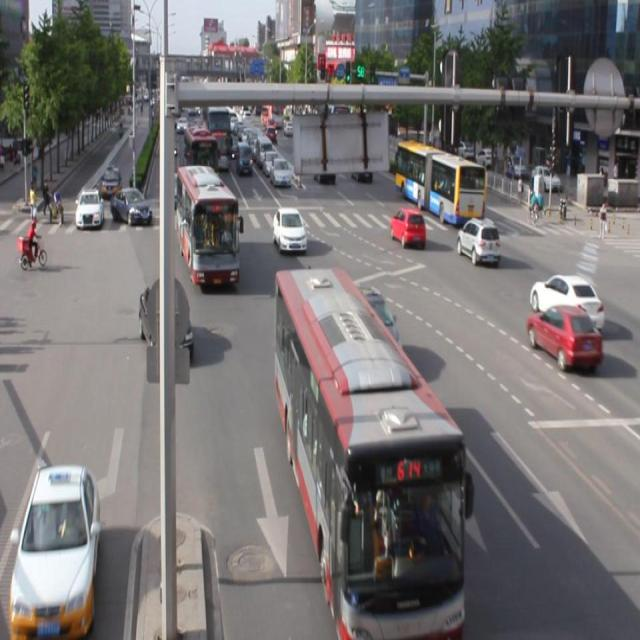car: (10, 462, 101, 640), (525, 301, 602, 371), (528, 271, 603, 330), (140, 284, 193, 358), (456, 216, 499, 263), (272, 205, 308, 252), (390, 206, 425, 247)
van: (274, 266, 464, 640), (177, 164, 240, 286)
